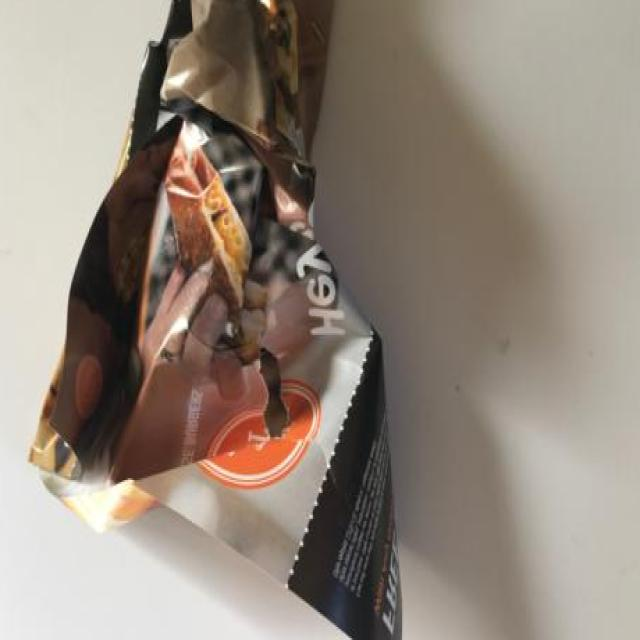kertas: (25, 0, 402, 640)
